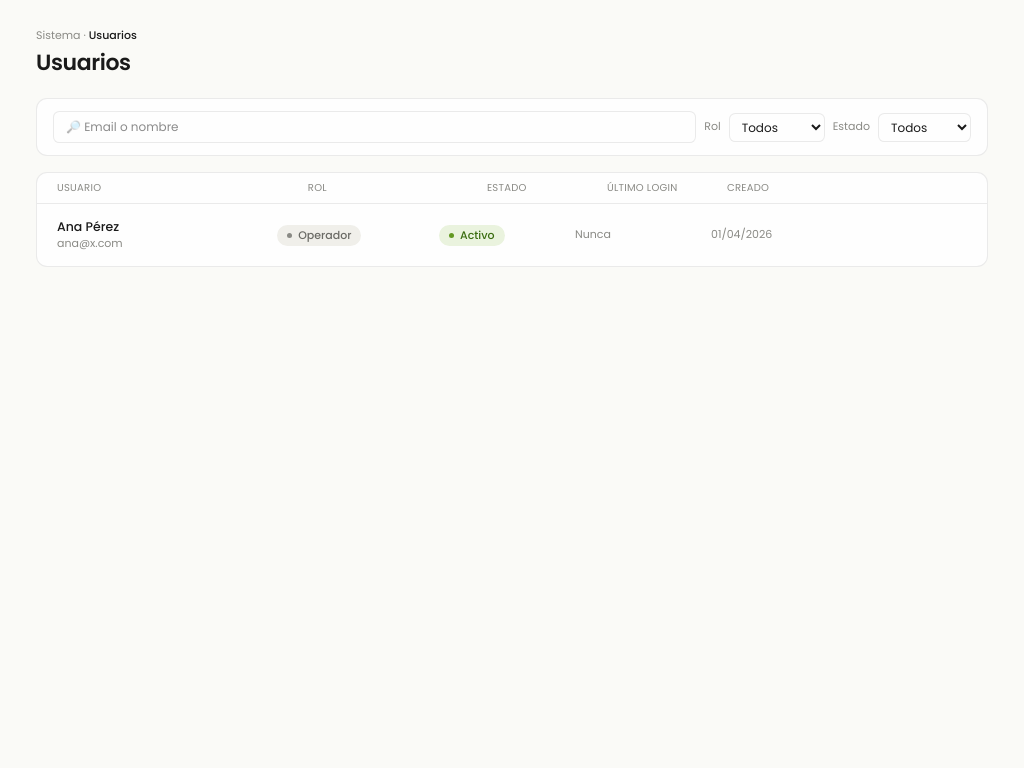
<UsersPage /> › clicking role pill on other user opens the role modal
The image size is (1024, 768).
Expected: the text "Ana Pérez" is shown, [57,218,119,235]
Click the button "Operador" at (319, 235), box [277,224,362,246]
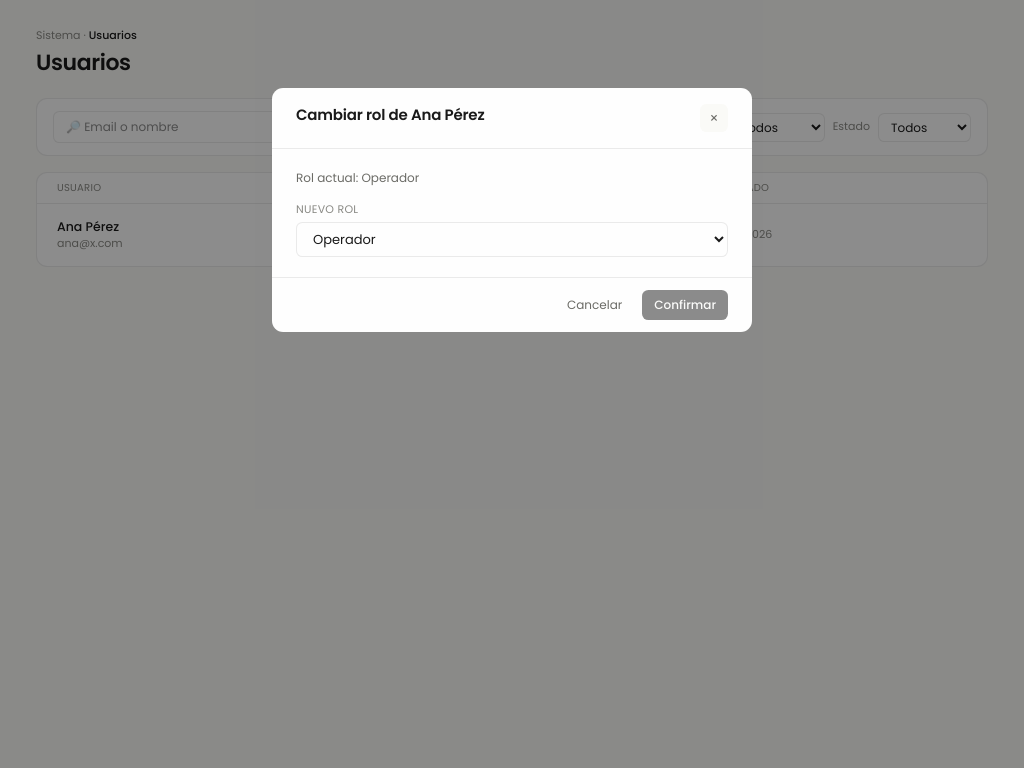
Now the heading "Cambiar rol de Ana Pérez" is shown, box [296,104,484,126]
